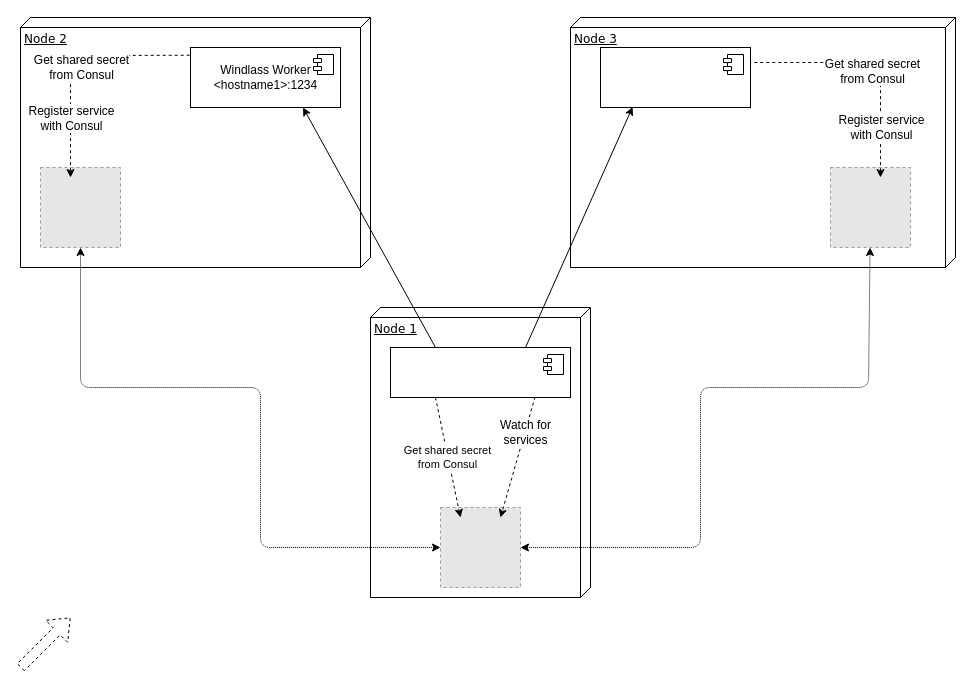
Some shapes in this 974 by 689 pixel diagram are drawn without their labels. Grey dashed boxes stand in for pictures. The centre of each missing label's shape, as x and y in pixels:
Windlass API: the point at 480,372
Windlass Worker <hostname2>:4321: the point at 675,77
